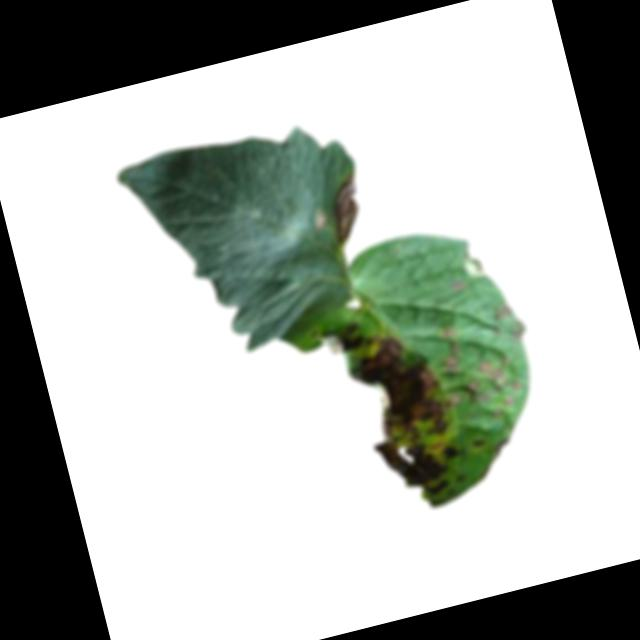Early_blight: (319, 307, 474, 513), (319, 171, 374, 248), (436, 323, 466, 375), (479, 355, 507, 382), (466, 376, 488, 407), (493, 300, 515, 320), (470, 434, 489, 448)
